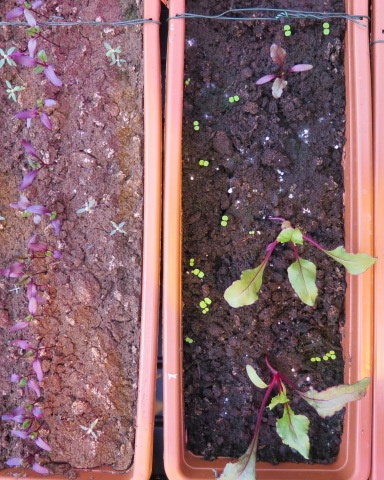crop: (218, 354, 369, 480), (224, 213, 378, 308), (252, 42, 314, 101), (17, 140, 58, 191), (16, 52, 67, 87), (9, 338, 54, 377), (4, 262, 46, 296), (23, 10, 53, 56), (16, 99, 59, 130), (9, 299, 44, 332), (28, 204, 64, 235), (10, 427, 55, 451), (2, 406, 53, 427), (5, 452, 51, 475), (4, 1, 52, 19), (10, 196, 45, 220), (10, 372, 42, 397), (27, 240, 63, 260)
weed: (77, 415, 100, 443), (107, 216, 128, 237), (2, 79, 22, 100), (76, 200, 98, 217), (1, 47, 17, 69), (101, 42, 122, 55), (226, 93, 241, 105), (219, 212, 229, 228), (111, 55, 127, 65), (197, 157, 211, 168), (282, 22, 291, 39), (322, 20, 331, 37), (183, 334, 195, 346), (192, 268, 205, 279), (199, 297, 212, 307), (326, 351, 337, 361), (192, 119, 200, 132), (309, 355, 322, 363), (188, 256, 195, 268), (203, 307, 213, 315), (185, 77, 190, 86), (248, 230, 255, 235)
